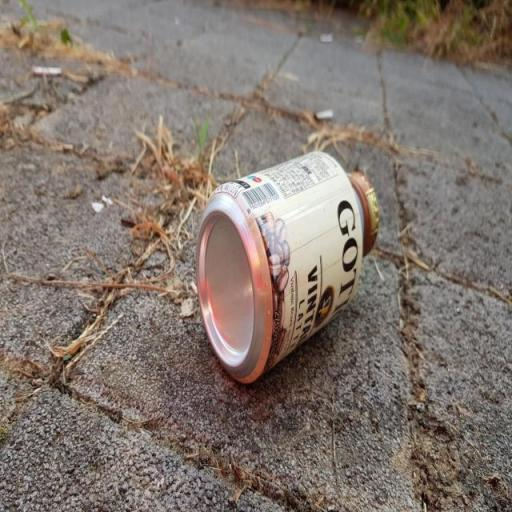metal: (184, 143, 400, 405)
